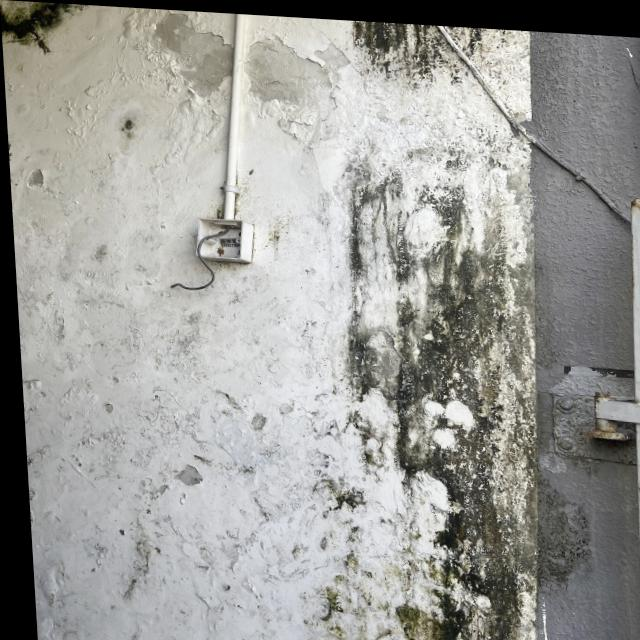mildew: (337, 148, 542, 640)
spalling: (140, 18, 356, 118), (173, 453, 208, 491)
